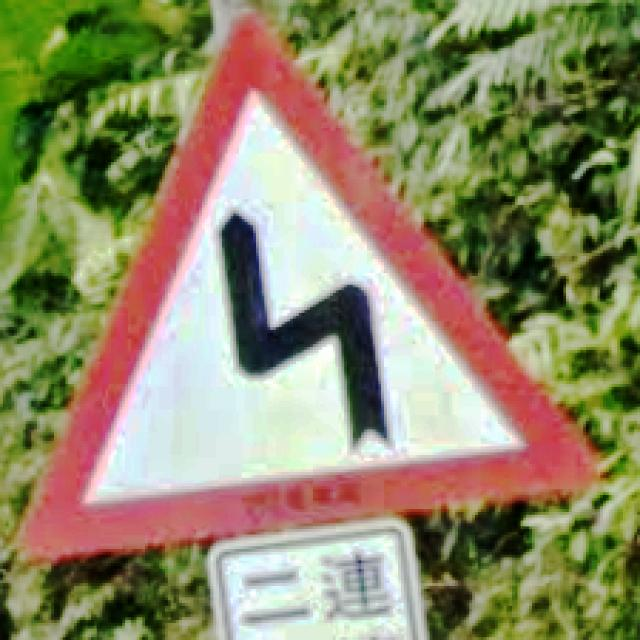doublebendleft: (26, 11, 600, 563)
